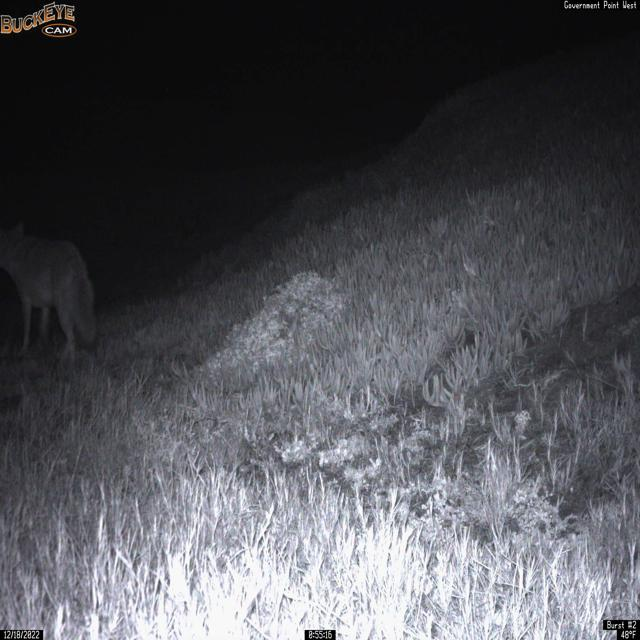coyote: (0, 220, 100, 368)
